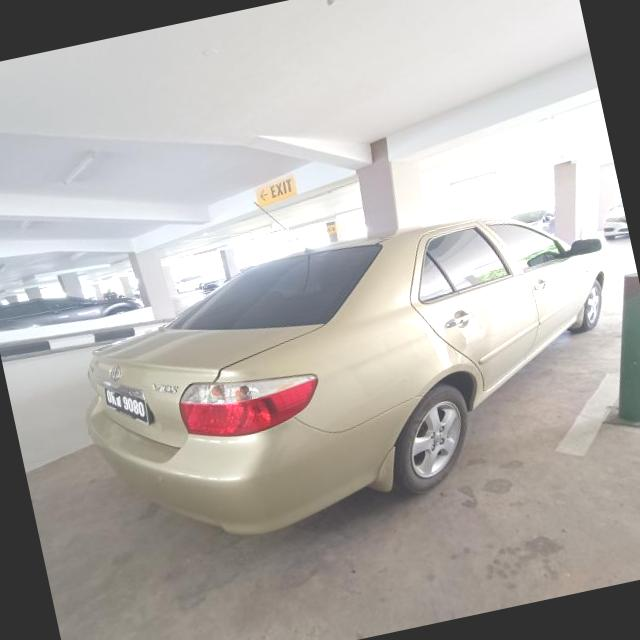ToyotaVios: (57, 185, 640, 565)
